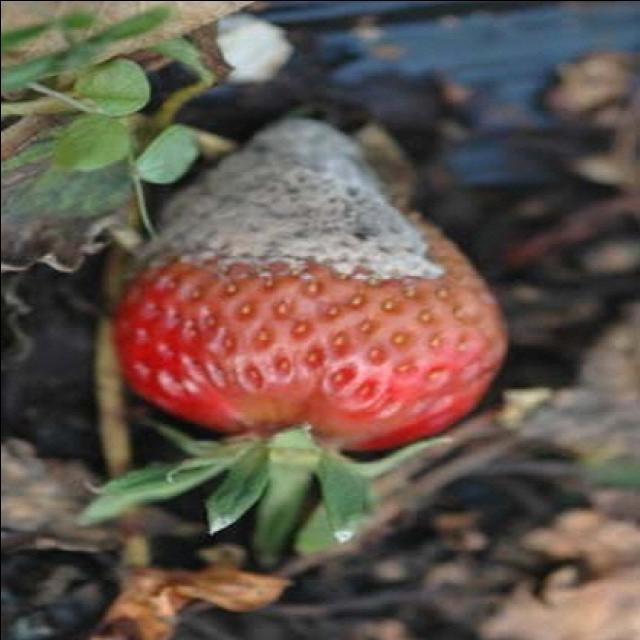Gray Mold: (123, 117, 452, 285)
